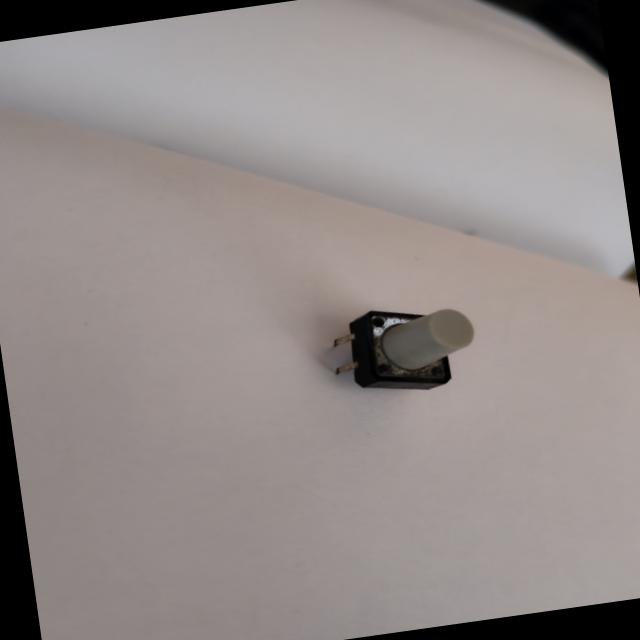switch: (306, 288, 492, 412)
